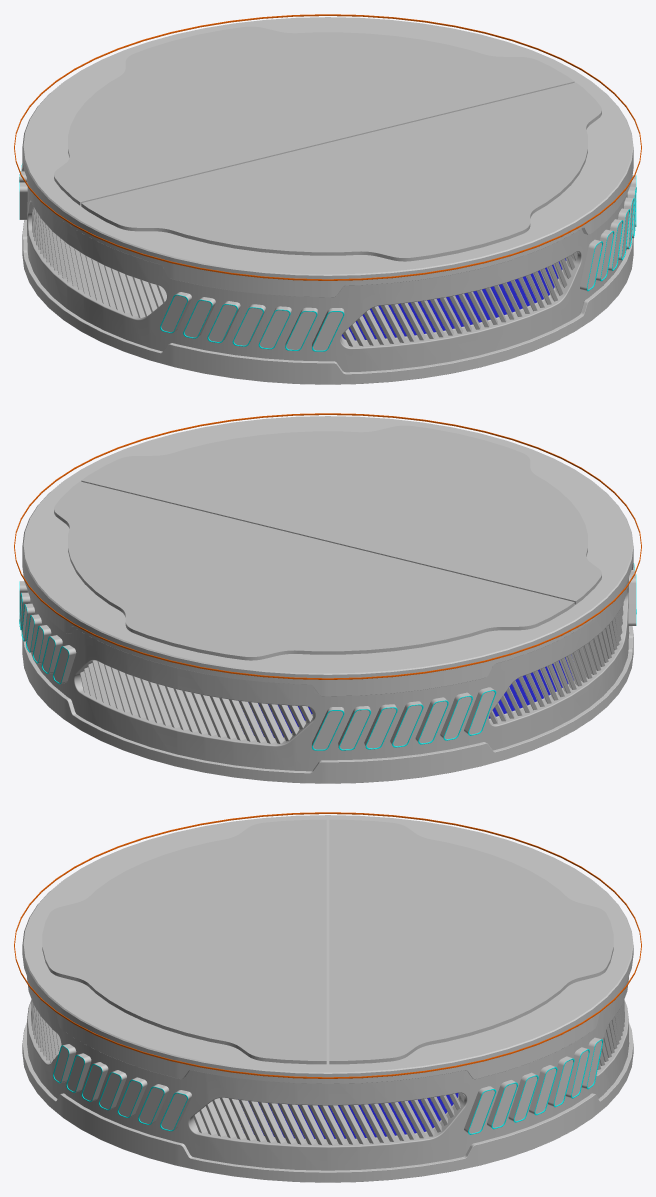
3 renders of one model, top to bottom at view 1: azimuth 30°, elevation 25°; view 2: azimuth 150°, elevation 25°; view 3: azimuth 270°, elevation 25°, orthographic.
Parts seen in each view (by area): view 1: Right, Left, Edge, Main (×2), Edge_EM, polySurface7, polySurface6, polySurface2, polySurface3, polySurface1, polySurface4, polySurface5 (+1 smaller); view 2: Left, Right, Edge, Main (×2), Edge_EM, polySurface27, polySurface26, polySurface28, polySurface25, polySurface24, polySurface23, polySurface22 (+1 smaller); view 3: Left, Right, Edge, Main (×2), Edge_EM, polySurface15, polySurface16, polySurface17, polySurface18, polySurface19, polySurface14, polySurface13 (+7 smaller).
Boxes of the visible parts, x1,y1,x2,y2 form: Right: [81, 82, 601, 261]; Left: [54, 26, 574, 205]; Edge: [22, 17, 633, 384]; Main (×2): [27, 179, 627, 372]; Edge_EM: [14, 14, 641, 280]; polySurface7: [311, 308, 344, 350]; polySurface6: [285, 307, 317, 349]; polySurface2: [184, 297, 215, 337]; polySurface3: [208, 301, 240, 341]; polySurface1: [161, 292, 191, 332]; polySurface4: [234, 304, 265, 345]; polySurface5: [260, 306, 291, 348]; Left: [54, 481, 574, 660]; Right: [81, 425, 601, 604]; Edge: [22, 416, 633, 783]; Main (×2): [27, 578, 628, 771]; Edge_EM: [14, 413, 641, 679]; polySurface27: [440, 692, 471, 739]; polySurface26: [415, 697, 447, 743]; polySurface28: [464, 687, 494, 734]; polySurface25: [390, 701, 422, 746]; polySurface24: [364, 704, 396, 748]; polySurface23: [338, 706, 370, 749]; polySurface22: [311, 707, 344, 749]; Left: [329, 819, 613, 1064]; Right: [42, 819, 326, 1064]; Edge: [22, 815, 633, 1182]; Main (×2): [27, 977, 628, 1170]; Edge_EM: [14, 812, 641, 1078]; polySurface15: [464, 1086, 494, 1133]; polySurface16: [487, 1080, 516, 1128]; polySurface17: [508, 1072, 537, 1121]; polySurface18: [529, 1065, 556, 1114]; polySurface19: [548, 1056, 573, 1106]; polySurface14: [161, 1090, 191, 1130]; polySurface13: [139, 1084, 169, 1123].
Size of the model in its own units: 20.86 by 4.16 by 20.86.
